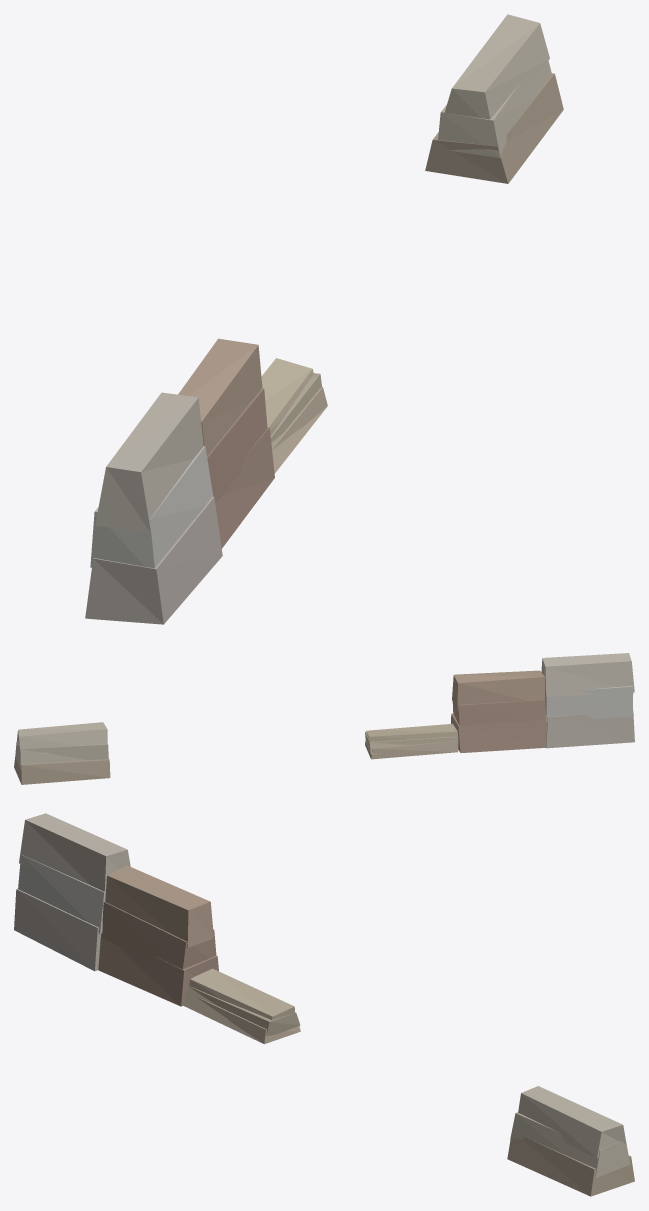
Rendered from farm_6_15_mid.glb.
3 views of the same model, one above another, from view 1: azimuth 30°, elevation 25°; view 2: azimuth 150°, elevation 25°; view 3: azimuth 270°, elevation 25° (orthographic). The views are drawn at different scales.
Parts seen in each view (by area): view 1: geometry_0; view 2: geometry_0; view 3: geometry_0.
Part boxes in pixels (left/top/right/bottom): geometry_0: left=85, top=14, right=563, bottom=624; geometry_0: left=14, top=653, right=634, bottom=784; geometry_0: left=14, top=813, right=634, bottom=1196.
Size of the model in its own units: 8.81 by 1.55 by 7.86.
